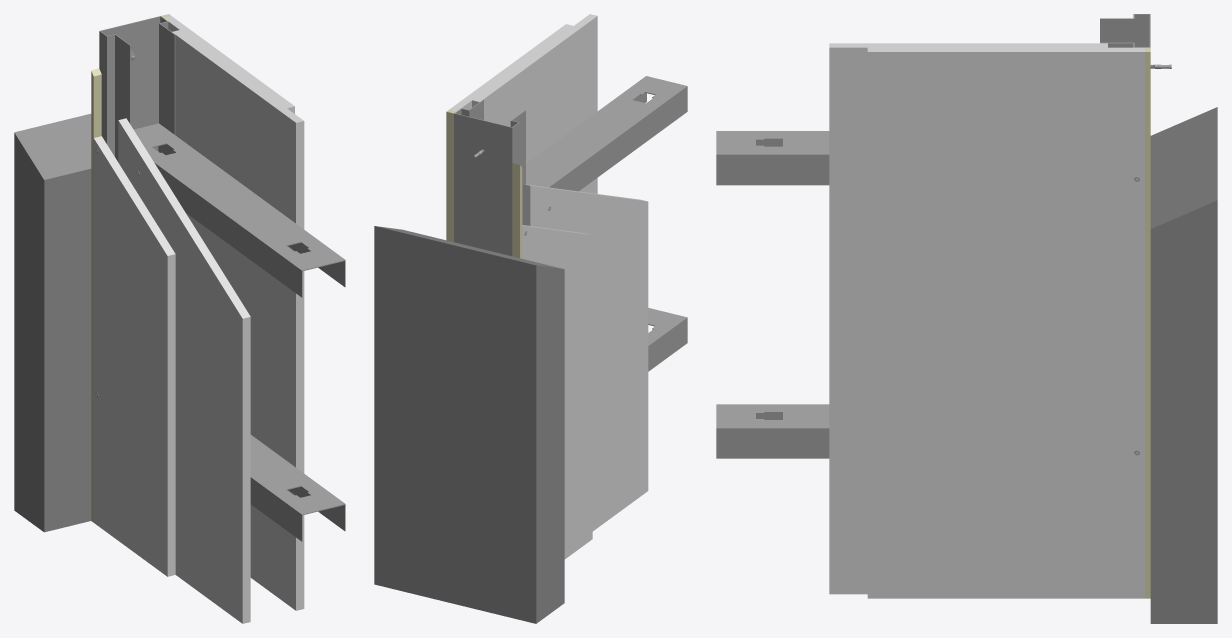
The model's file is Drywall_Detail.fbx.
3 views of the same model, side by side, from view 1: azimuth 30°, elevation 25°; view 2: azimuth 150°, elevation 25°; view 3: azimuth 270°, elevation 25° (orthographic). The views are drawn at different scales.
Visible parts, largest first — view 1: DRYWALL_2, CONCRETE_2, STUDS, HEAD_TRACK, SEALANT_2; view 2: CONCRETE_2, DRYWALL_2, STUDS, HEAD_TRACK, SEALANT_2; view 3: DRYWALL_2, CONCRETE_2, STUDS, SEALANT_2, HEAD_TRACK.
Boxes of the visible parts, x1,y1,x2,y2 form: DRYWALL_2: [93, 16, 304, 623]; CONCRETE_2: [14, 113, 91, 532]; STUDS: [134, 123, 345, 541]; HEAD_TRACK: [99, 16, 175, 161]; SEALANT_2: [91, 14, 170, 522]; CONCRETE_2: [374, 226, 564, 623]; DRYWALL_2: [449, 14, 648, 559]; STUDS: [526, 76, 687, 371]; HEAD_TRACK: [454, 100, 525, 256]; SEALANT_2: [446, 110, 522, 258]; DRYWALL_2: [829, 43, 1144, 598]; CONCRETE_2: [1150, 107, 1217, 623]; STUDS: [716, 131, 829, 458]; SEALANT_2: [1145, 47, 1150, 598]; HEAD_TRACK: [1100, 14, 1150, 47].
Size of the model in its own units: 13.18 by 29.91 by 36.
